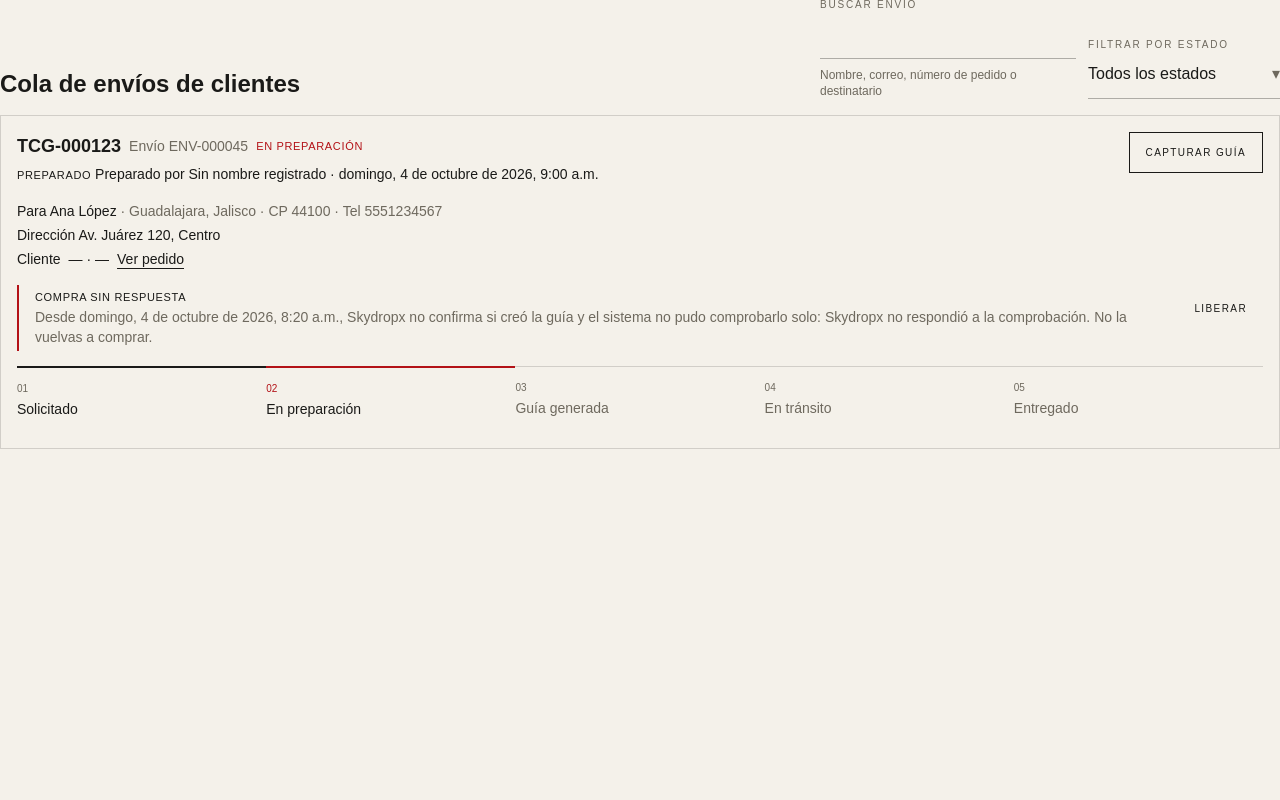
Test case: UX-SDX-33 💰 · «Liberar» con los datos para cuadrar en el panel y la casilla de conflicto › `providerReference:null` ⇒ «Esta compra no llegó a llevar folio…»; un dato ausente ⇒ «sin dato»
Click the button "Liberar" at [1221, 309], box [1178, 289, 1263, 329]
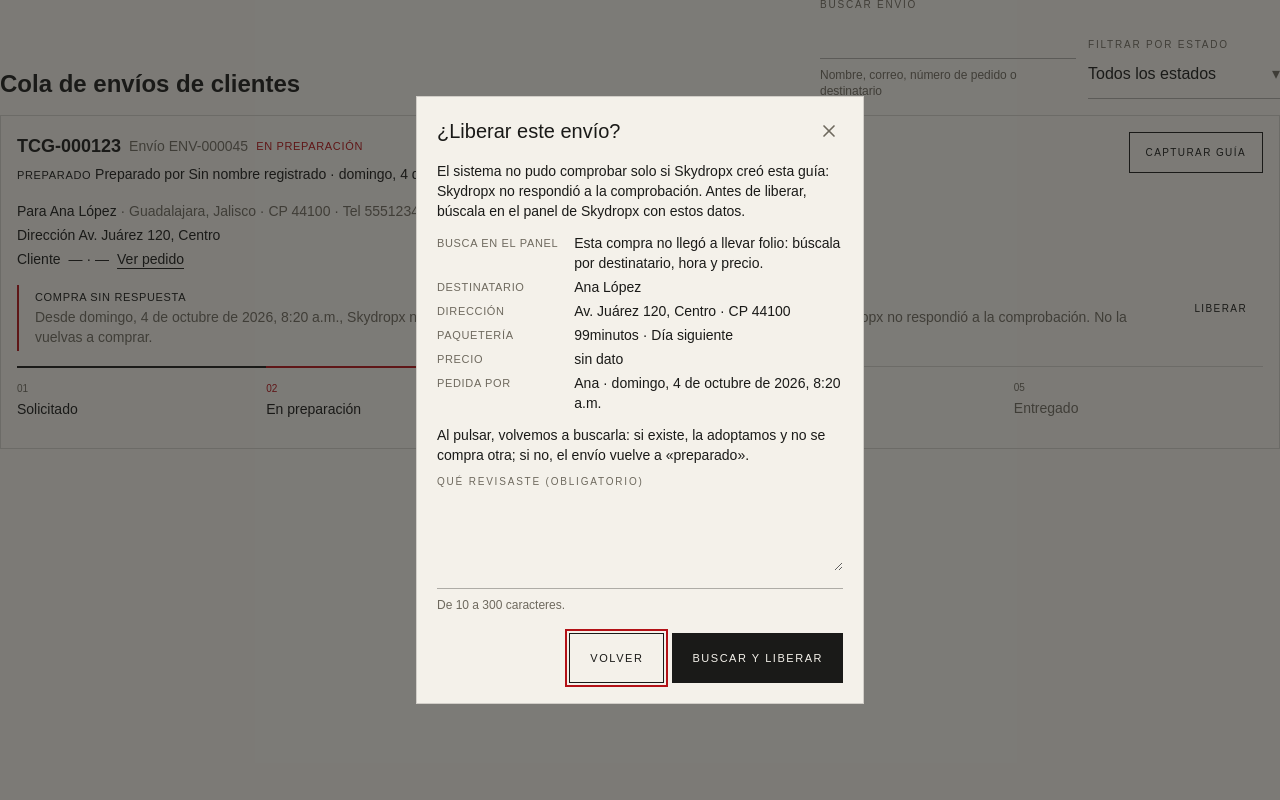
expect the element with test id "release-data" shows "Esta compra no llegó a llevar folio: búscala por destinatario, hora y precio.": met, box [574, 235, 840, 271]
expect the element with test id "release-data" shows "sin dato": met, box [574, 351, 623, 367]
